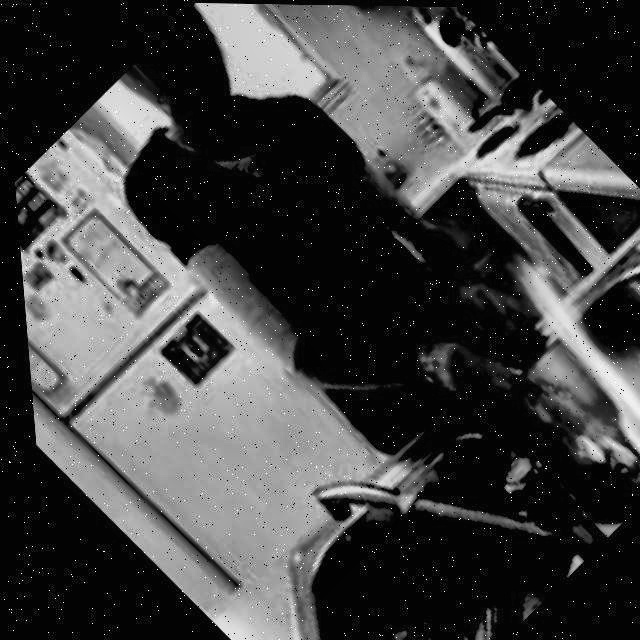Fire: (428, 226, 640, 512)
